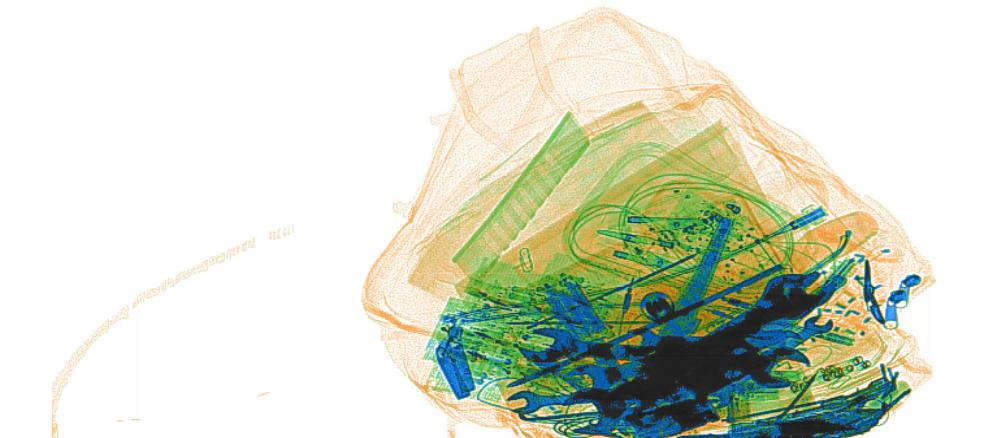battery: (523, 267, 610, 351)
